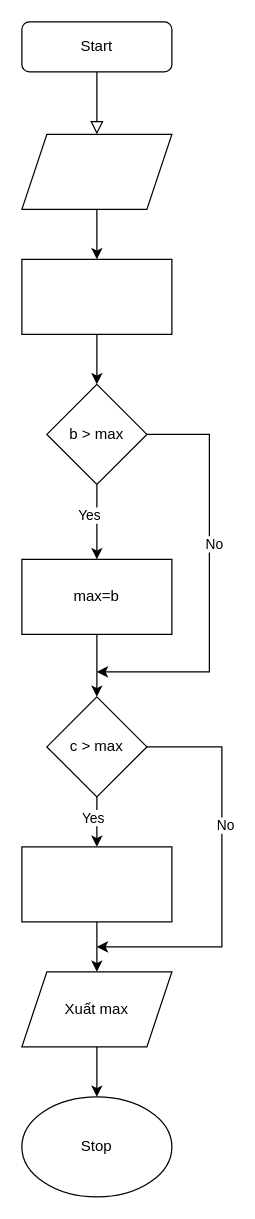
Some shapes in this 255 by 1219 pixel diagram are drawn without their labels. The centre of each missing label's shape, as x and y in pixels:
max=a: (x=96, y=296)
max=c: (x=96, y=884)
Nhập a, b, c: (x=96, y=171)
